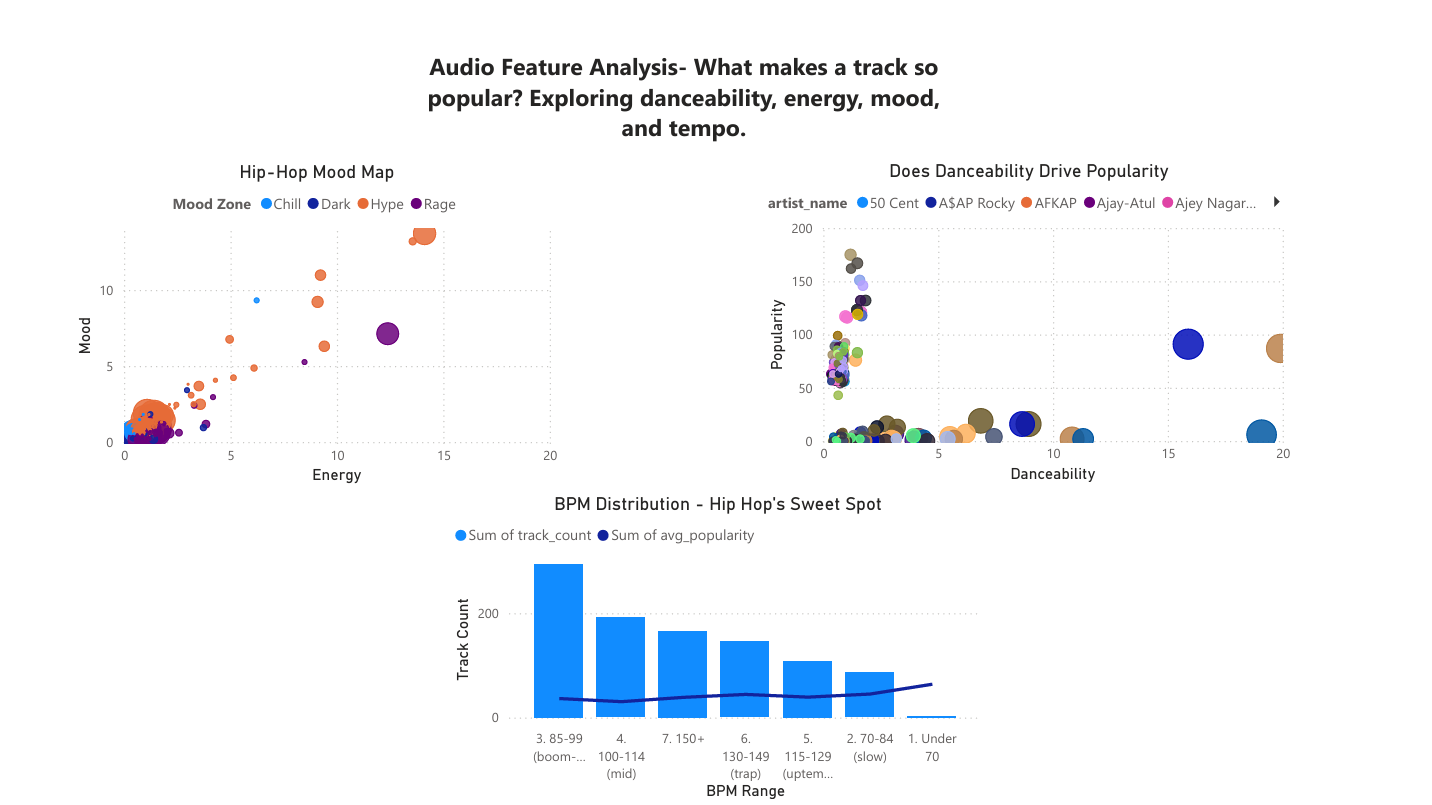

What the dashboard file says about the page in this screenshot:
{"tool":"powerbi","page":{"name":"Page 2","canvas":[1280,720],"ordinal":1},"visuals":[{"type":"scatterChart","title":"Hip-Hop Mood Map","fields":{"X":["Sum(track_mood_3a.energy)"],"Y":["Sum(track_mood_3a.mood_score)"],"Category":["track_mood_3a.track_name"],"Series":["track_mood_3a.mood_zone"],"Size":["Sum(track_mood_3a.popularity)"]},"box":[45,127.5,452.5,302.5],"z":0},{"type":"scatterChart","title":"Does Danceability Drive Popularity","fields":{"X":["Sum(banger_analysis_full_2a.danceability)"],"Y":["Sum(banger_analysis_full_2a.popularity)"],"Category":["banger_analysis_full_2a.track_name"],"Series":["banger_analysis_full_2a.artist_name"],"Size":["Sum(banger_analysis_full_2a.energy)"]},"box":[682.2,126.6,491,302.3],"z":1000},{"type":"lineClusteredColumnComboChart","title":"BPM Distribution - Hip Hop''s Sweet Spot","fields":{"Category":["bpm_bucket_distro_4a.bpm_range"],"Y":["Sum(bpm_bucket_distro_4a.track_count)"],"Y2":["Sum(bpm_bucket_distro_4a.avg_popularity)"]},"box":[392.8,434.1,496.2,286.8],"z":2000},{"type":"textbox","box":[364.4,20.7,491,105.9],"z":3000}]}

Visuals, with their boxes in screenshot pixels (x1, y1, x2, y2), scaled from the page's 1280x720 canvas onto the 1432x805 screenshot:
"Hip-Hop Mood Map" scatterChart: [left=50, top=143, right=557, bottom=481]
"Does Danceability Drive Popularity" scatterChart: [left=763, top=142, right=1313, bottom=480]
"BPM Distribution - Hip Hop''s Sweet Spot" lineClusteredColumnComboChart: [left=439, top=485, right=995, bottom=804]
textbox: [left=408, top=23, right=957, bottom=142]
